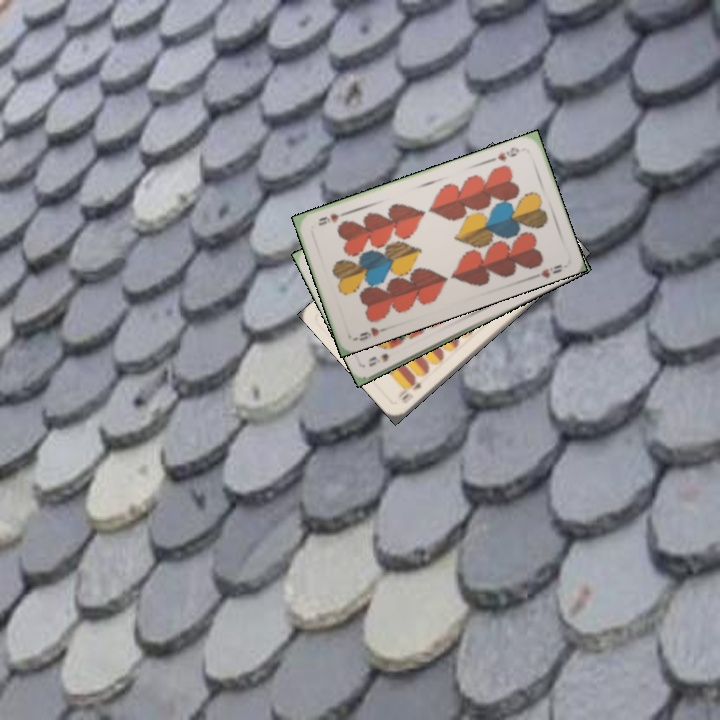E10: (397, 376, 424, 406)
H9: (350, 323, 390, 344), (493, 143, 522, 165)
S9: (364, 349, 392, 369)
